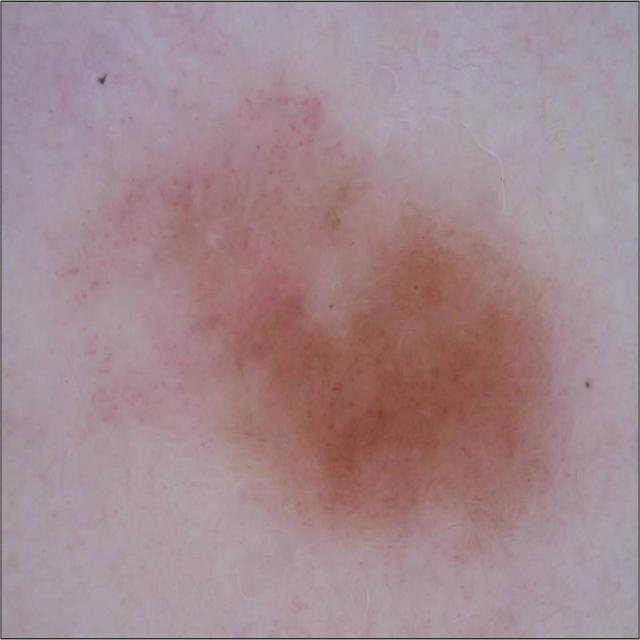Melanoma: (129, 75, 568, 546)
